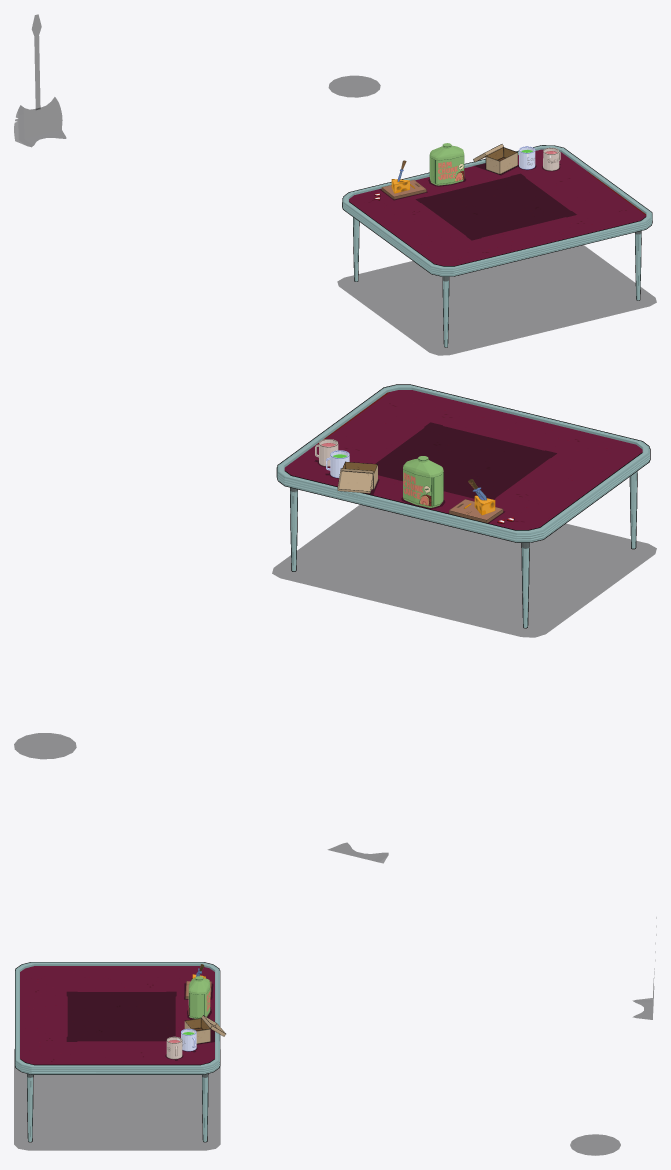
File: Cave_Table.glb
3 views of the same model, one above another, from view 1: azimuth 30°, elevation 25°; view 2: azimuth 150°, elevation 25°; view 3: azimuth 270°, elevation 25° (orthographic). The views are drawn at different scales.
Parts seen in each view (by area): view 1: Cave_Table, Cave_Shadow, Cave_Table_Shadow, Cave_Table_Objects; view 2: Cave_Table, Cave_Shadow, Cave_Table_Shadow, Cave_Table_Objects; view 3: Cave_Table, Cave_Shadow, Cave_Table_Shadow, Cave_Table_Objects.
Boxes of the visible parts, bbox=[...] form: Cave_Table: bbox=[342, 145, 652, 347]; Cave_Shadow: bbox=[14, 14, 656, 355]; Cave_Table_Shadow: bbox=[374, 163, 576, 240]; Cave_Table_Objects: bbox=[374, 143, 560, 200]; Cave_Table: bbox=[276, 384, 650, 628]; Cave_Shadow: bbox=[14, 505, 656, 863]; Cave_Table_Shadow: bbox=[314, 422, 556, 523]; Cave_Table_Objects: bbox=[315, 439, 513, 523]; Cave_Table: bbox=[15, 962, 220, 1142]; Cave_Shadow: bbox=[14, 917, 656, 1155]; Cave_Table_Shadow: bbox=[66, 983, 219, 1060]; Cave_Table_Objects: bbox=[166, 964, 225, 1059].
Bounding box in the file's own units: 7.78 × 2.66 × 13.31.
3 materials, 3 textured.
